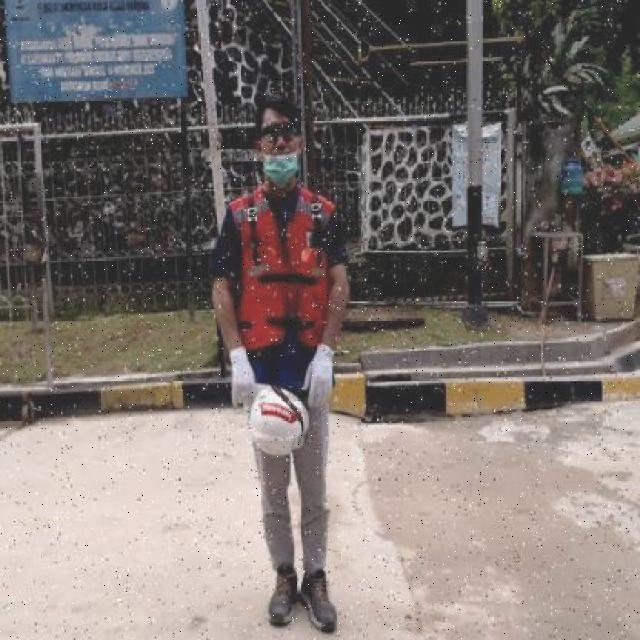Boots: (299, 570, 339, 635), (264, 567, 298, 630)
Gloves: (303, 345, 334, 410), (227, 348, 258, 406)
Helmet: (249, 386, 309, 454)
Mask: (240, 247, 326, 346)
